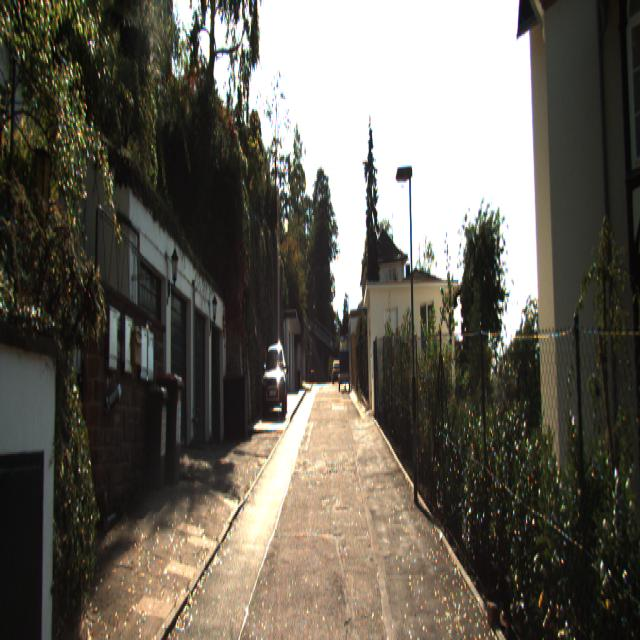Car: (262, 336, 288, 410), (339, 347, 351, 392)
